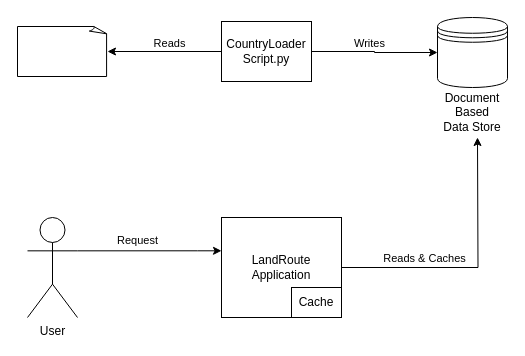
The diagram is 525 pixels wide and 356 high, and some of its shapes have lost their labels. The shapes that lost their labels are listed below. From the top down, each one's box as (x1, y1, x2, y2) in pixels, then its label:
(16, 26, 108, 76): countries.json
(436, 16, 508, 88): Mongo DB
